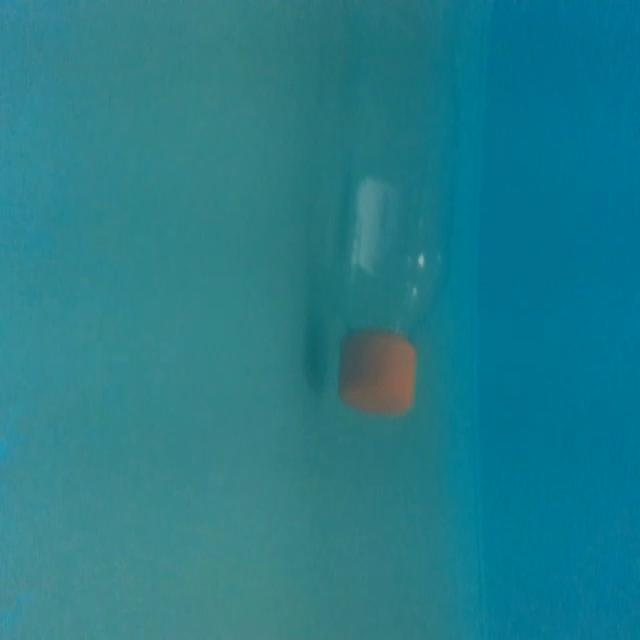plastic bottle: (331, 5, 466, 426)
